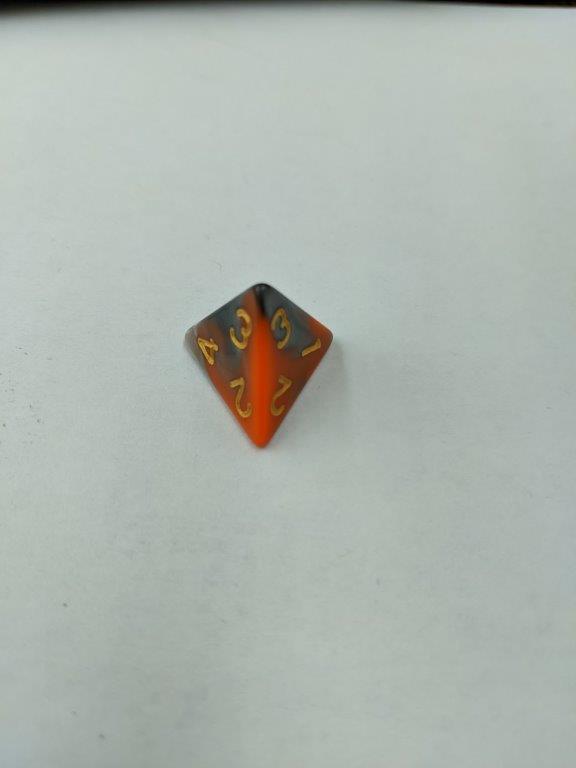d4-3: (177, 280, 335, 450)
